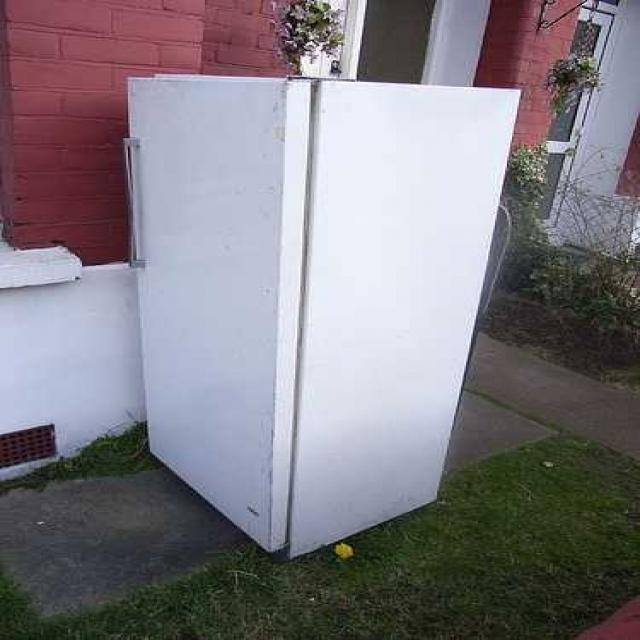refrigerator: (128, 74, 513, 534)
